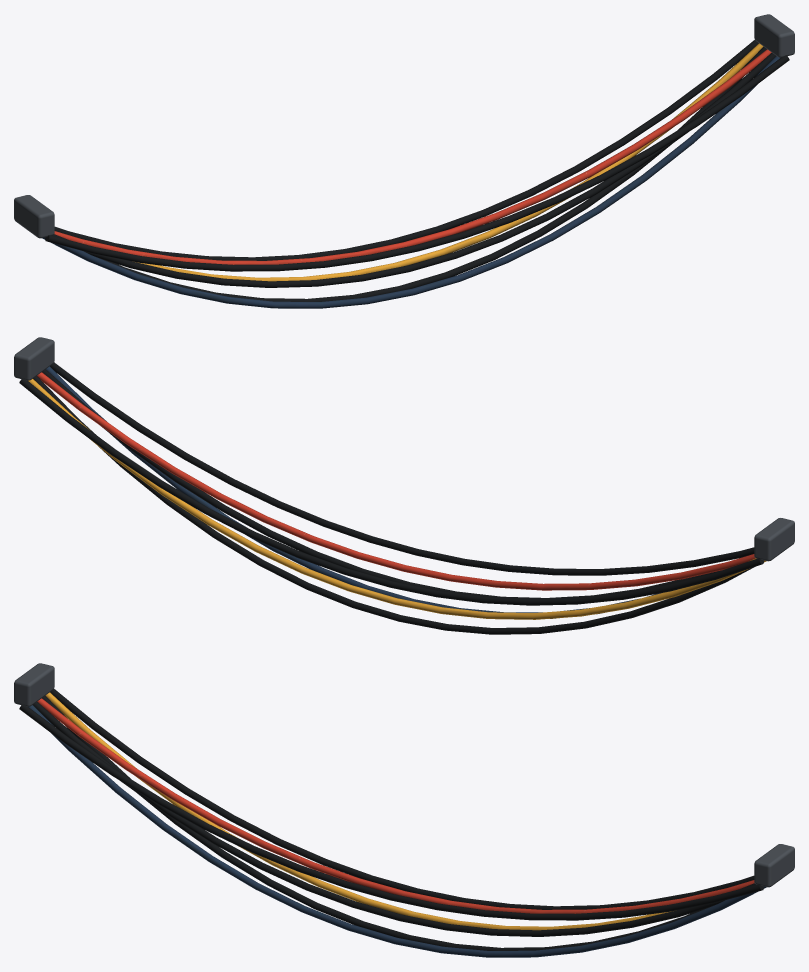
The model's file is CableBundleLong.glb.
The picture shows the model from 3 angles, top to bottom: view 1: azimuth 30°, elevation 25°; view 2: azimuth 150°, elevation 25°; view 3: azimuth 330°, elevation 25°; orthographic projection.
Parts seen in each view (by area): view 1: CableBundleLong_Body; view 2: CableBundleLong_Body; view 3: CableBundleLong_Body.
Boxes of the visible parts, x1,y1,x2,y2 form: CableBundleLong_Body: (14, 14, 794, 308); CableBundleLong_Body: (14, 337, 794, 634); CableBundleLong_Body: (14, 663, 794, 957).
Size of the model in its own units: 2.66 by 0.6085 by 0.178.
Materials: 5 (3 with a texture image).
